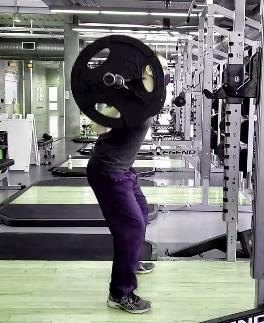Barbell: (102, 71, 117, 88)
